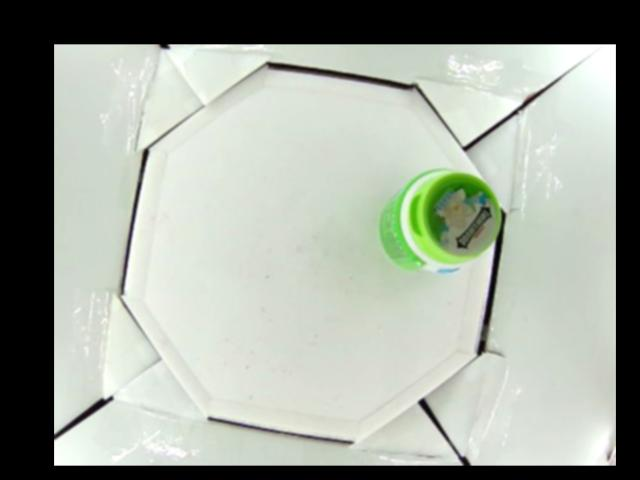Bottle: (375, 166, 500, 276)
